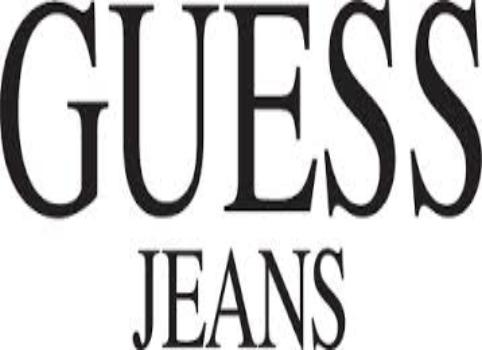GUESS: (2, 2, 482, 220)
